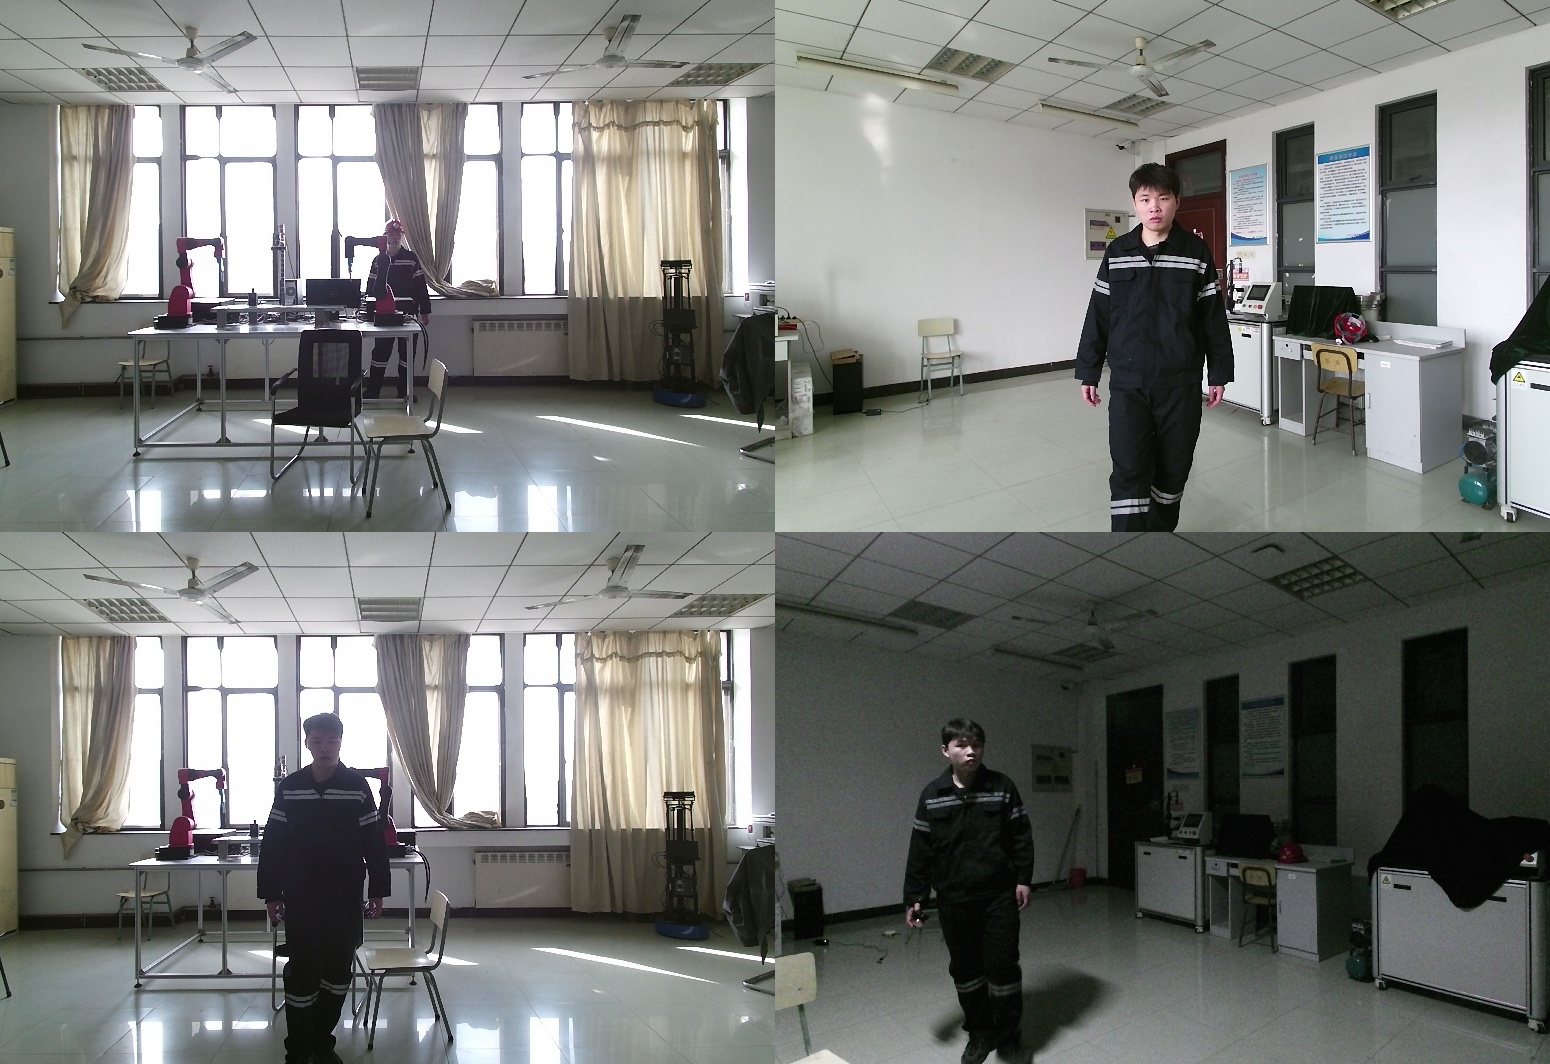person: (1076, 165, 1245, 532), (262, 712, 399, 1064), (904, 719, 1043, 1064), (363, 220, 431, 400)
